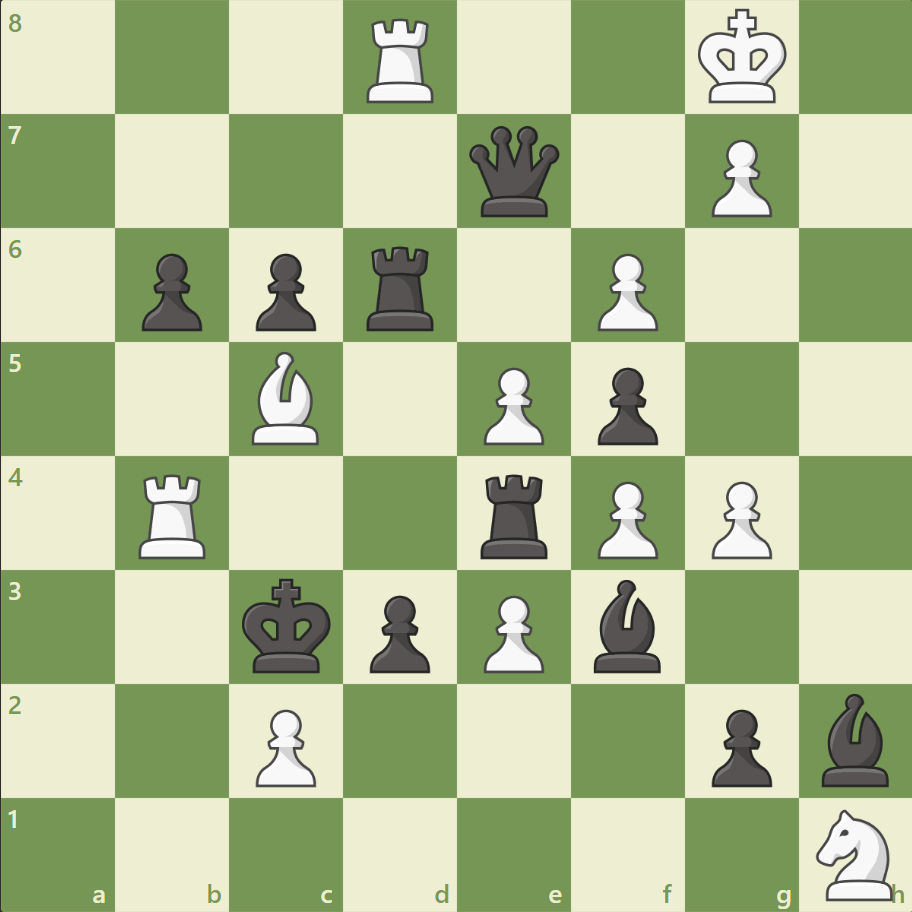B: (244, 347, 328, 449)
K: (692, 4, 792, 112)
N: (806, 802, 903, 904)
P: (701, 132, 776, 223), (474, 359, 549, 450), (701, 473, 776, 564), (474, 586, 549, 677), (247, 700, 322, 791), (588, 246, 662, 337), (588, 473, 662, 564)
R: (360, 12, 442, 109), (133, 466, 215, 563)
b: (812, 687, 896, 790), (585, 574, 669, 676)
k: (238, 571, 338, 679)
p: (133, 246, 208, 337), (247, 246, 322, 337), (701, 700, 776, 791), (588, 359, 662, 450), (361, 586, 435, 677)
q: (464, 122, 563, 222)
r: (473, 466, 556, 563), (360, 239, 442, 336)
